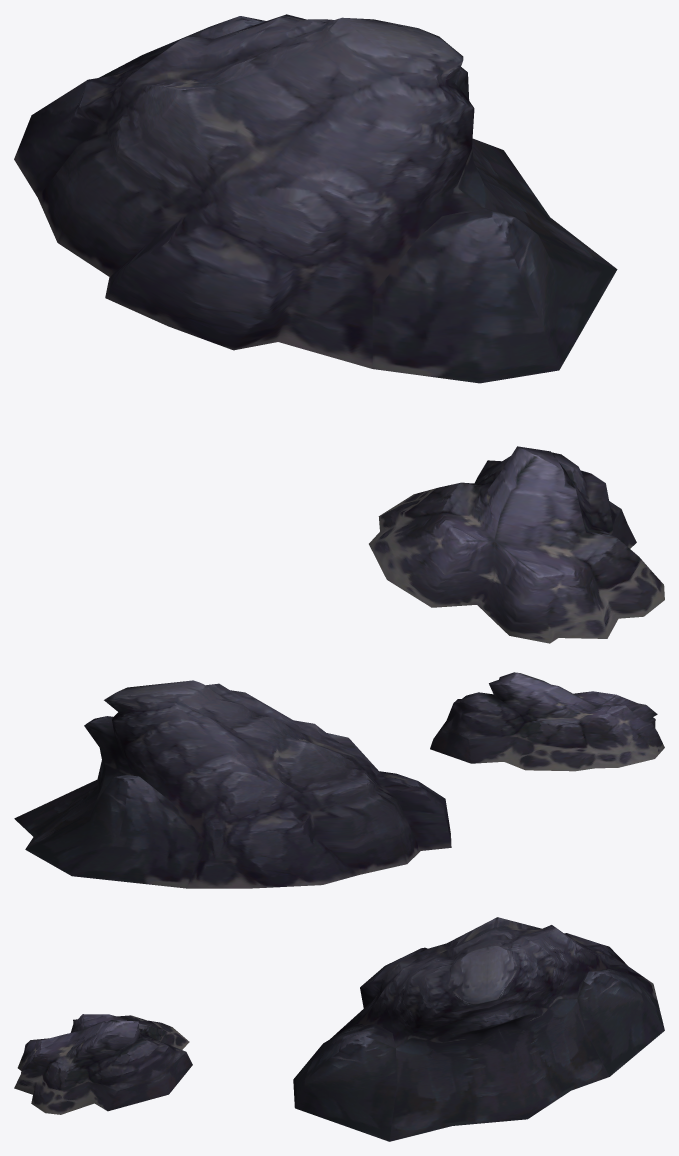
The model's file is Map02_Stone_02.FBX.
3 views of the same model, one above another, from view 1: azimuth 30°, elevation 25°; view 2: azimuth 150°, elevation 25°; view 3: azimuth 270°, elevation 25° (orthographic). The views are drawn at different scales.
Visible parts, largest first — view 1: DrawCall_001, Map02_Stone_02; view 2: DrawCall_001, Map02_Stone_02; view 3: DrawCall_001, Map02_Stone_02.
Part boxes in pixels (box(x1,y1,x2,y2)): DrawCall_001: box(14, 14, 617, 383); Map02_Stone_02: box(369, 446, 664, 643); DrawCall_001: box(14, 680, 451, 888); Map02_Stone_02: box(430, 672, 664, 771); DrawCall_001: box(293, 917, 664, 1141); Map02_Stone_02: box(14, 1014, 192, 1114).
Bounding box in the file's own units: 300 × 177 × 582.
